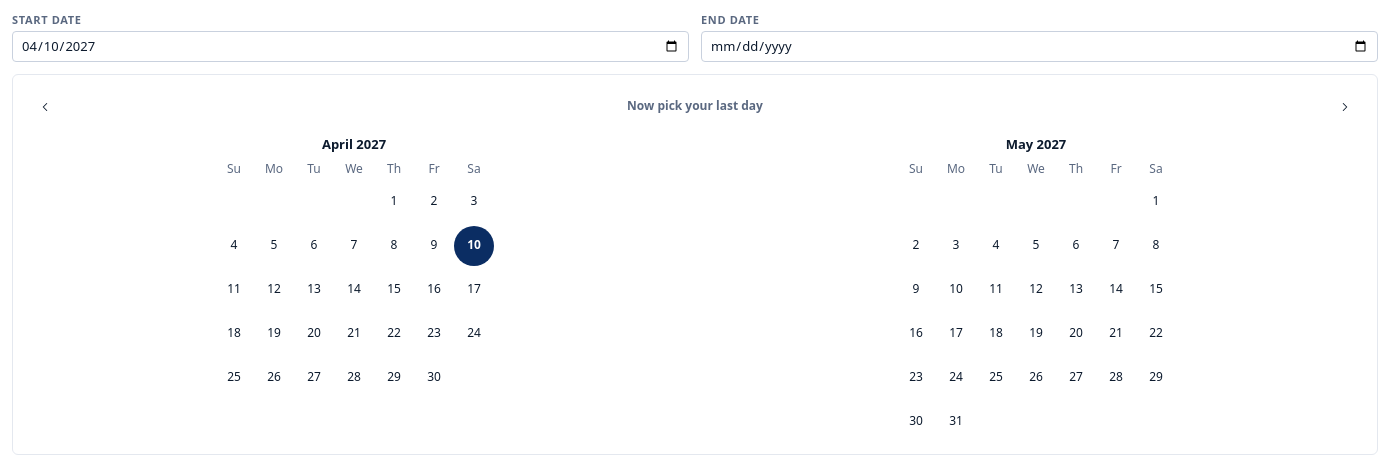
Test: DateRangePicker › restarts the range when the second click is before the start
This screenshot has width=1390, height=472.
What coordinates should you click on to do the following:
click the button named "April 5, 2027"
I would click on:
 (274, 246)
Its box is [254,226,294,266].
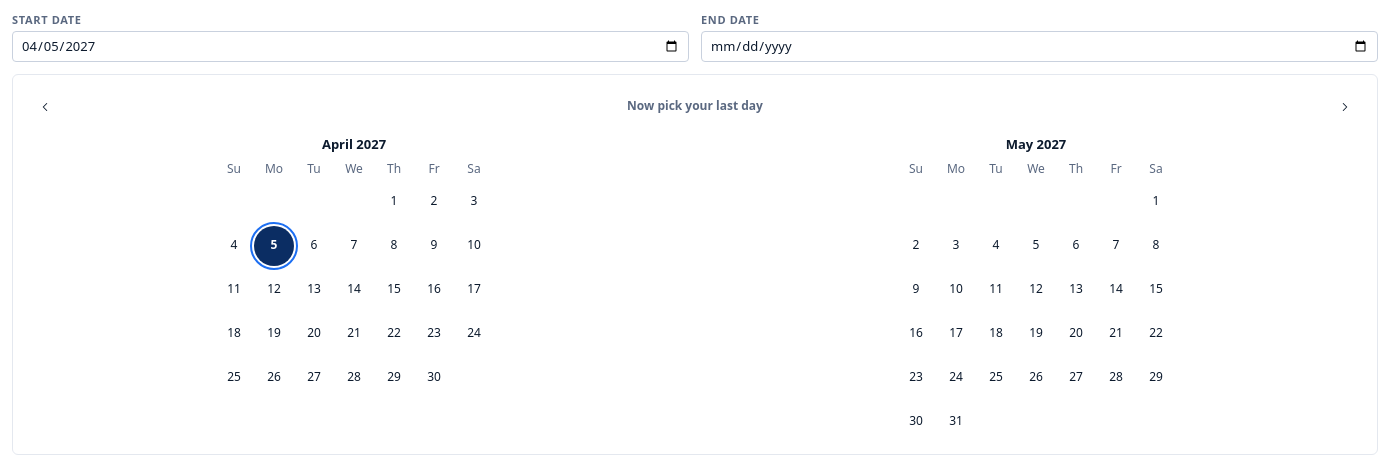
Expected: the date field labelled "End date" is empty, [701,31,1378,62]
Result: the date field labelled "Start date" holds "2027-04-05" at [12,31,689,62]
